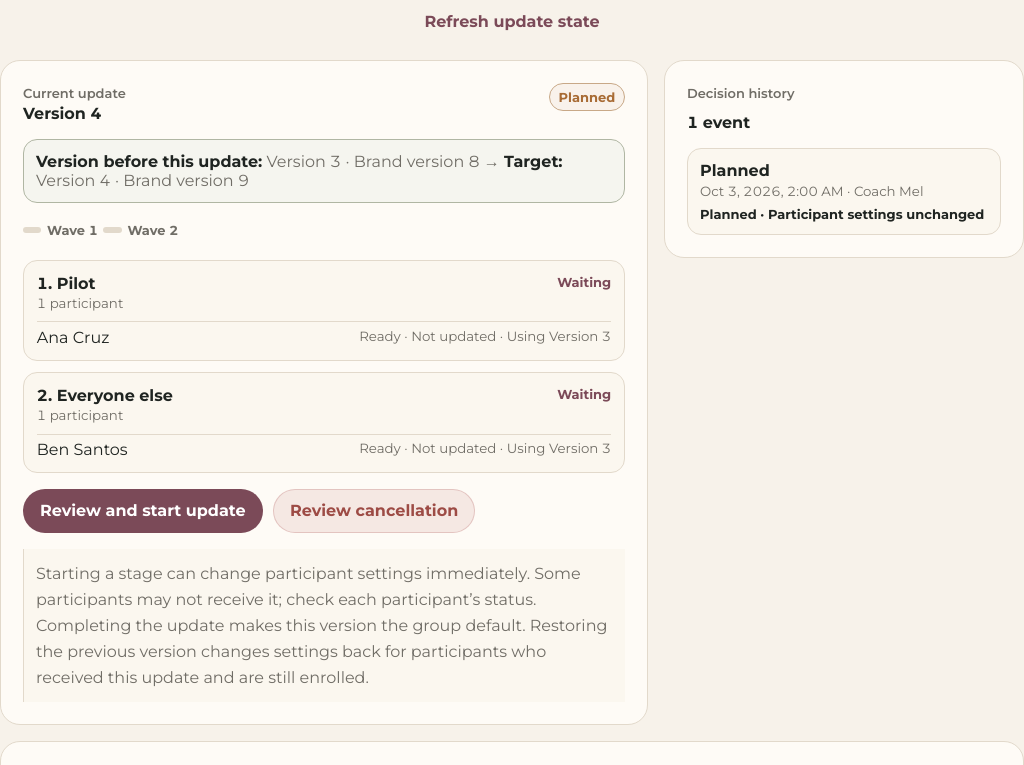
it: CohortRolloutStudio › states the immediate runtime decision before start and reports the returned exposure result
This screenshot has width=1024, height=765.
Click the button "Review and start update" at (143, 511), box [23,489,263,533]
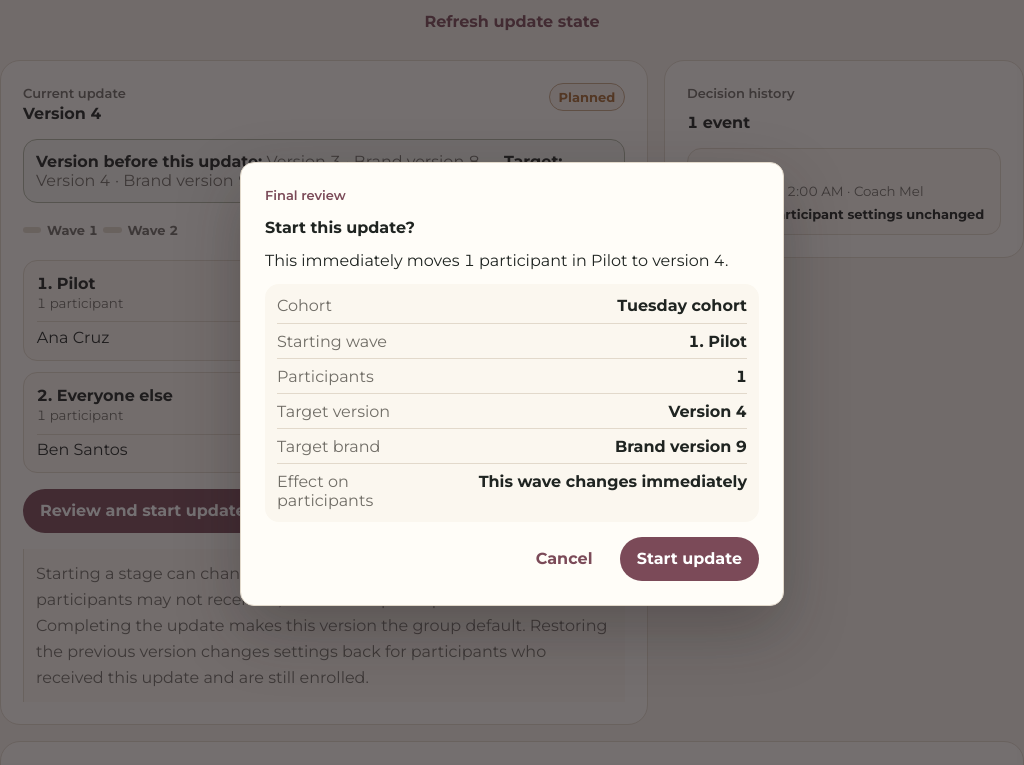
Expected: the text "This immediately moves 1 participant in Pilot to version 4." is shown, [265,251,759,270]
Expected: the text "This wave changes immediately" is shown, [479,472,747,491]
Click the button "Start update" at (689, 559), box [620,537,759,581]
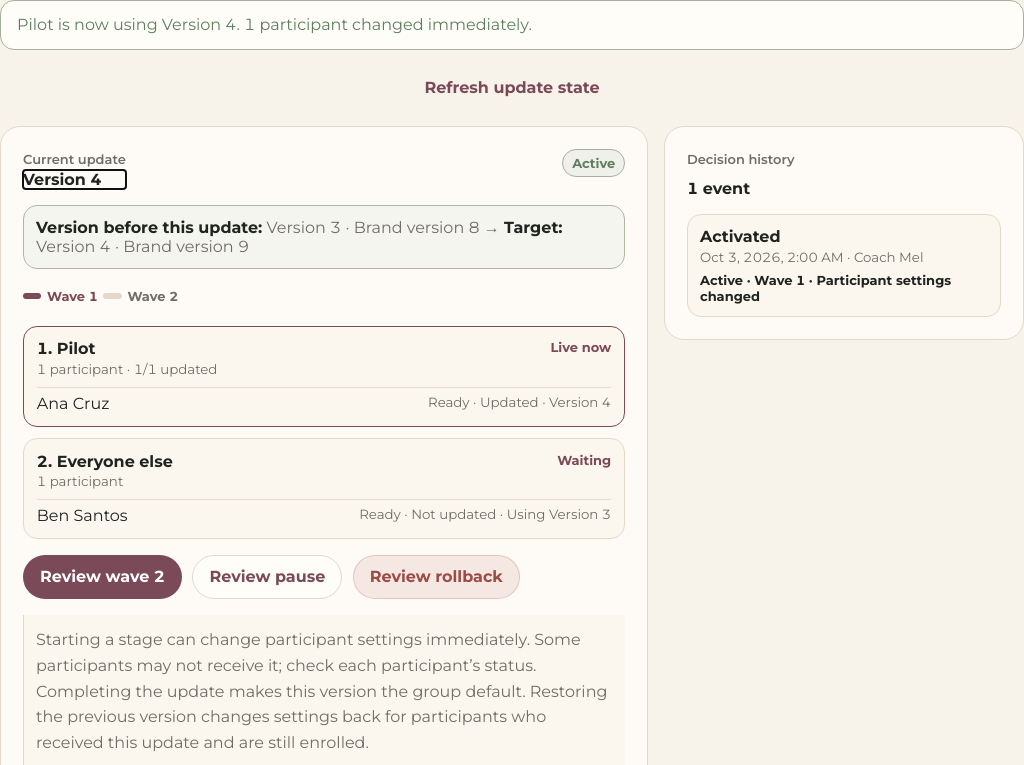
Expected: the text "Ready · Not updated · Using Version 3" is shown, [359,506,611,525]
Expected: the text "Pilot is now using Version 4. 1 participant changed immediately." is shown, [0,0,1023,50]
Expected: the text "Ready · Updated · Version 4" is shown, [428,394,611,413]
